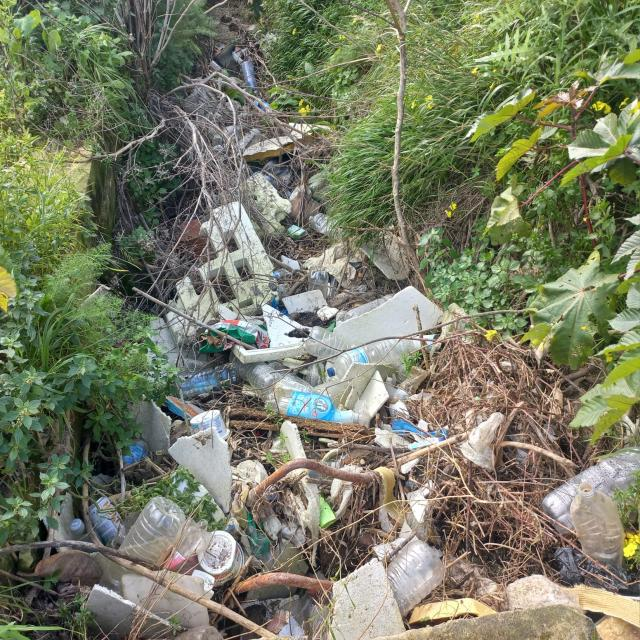Bottle: (545, 445, 640, 538), (385, 539, 445, 617), (569, 480, 625, 563), (119, 497, 184, 568), (328, 337, 417, 380), (285, 390, 371, 428), (161, 518, 215, 575), (229, 353, 283, 403), (173, 363, 239, 399), (275, 379, 352, 408), (307, 326, 354, 362), (267, 361, 313, 391), (345, 293, 395, 319), (70, 517, 104, 554), (162, 624, 224, 640), (309, 212, 343, 240), (213, 122, 245, 146), (123, 438, 148, 466), (235, 128, 262, 152), (308, 269, 328, 298), (266, 392, 289, 414), (328, 275, 339, 296), (253, 99, 269, 110), (209, 60, 222, 73), (274, 268, 286, 279)
Can: (411, 334, 440, 351)
Carton: (197, 319, 271, 356), (156, 395, 206, 419), (287, 224, 307, 240)
Other litter: (170, 425, 431, 640), (505, 574, 640, 630), (372, 365, 450, 450), (439, 554, 504, 606), (239, 123, 333, 154), (243, 132, 319, 167), (126, 395, 169, 454), (410, 599, 499, 625), (198, 531, 243, 581), (86, 495, 124, 546), (174, 220, 215, 265), (283, 357, 341, 387), (214, 43, 241, 78), (242, 61, 258, 90), (232, 47, 253, 66), (215, 44, 225, 52)
Other plastic: (182, 81, 251, 151), (459, 406, 507, 472), (504, 430, 529, 467), (618, 409, 640, 448), (210, 144, 223, 150)
Plastic bag - wrapper: (557, 545, 640, 598), (244, 158, 299, 200)
Plastic container: (189, 407, 232, 440)
Styrofoam piece: (165, 200, 279, 345), (326, 558, 410, 640), (335, 285, 443, 346), (82, 583, 183, 640), (166, 427, 231, 511), (123, 567, 210, 628), (141, 317, 225, 379), (232, 303, 312, 365), (343, 363, 402, 420), (373, 428, 421, 475), (281, 289, 340, 322), (53, 493, 76, 553), (219, 304, 264, 326), (282, 421, 307, 460), (91, 473, 113, 492), (281, 254, 300, 274)
